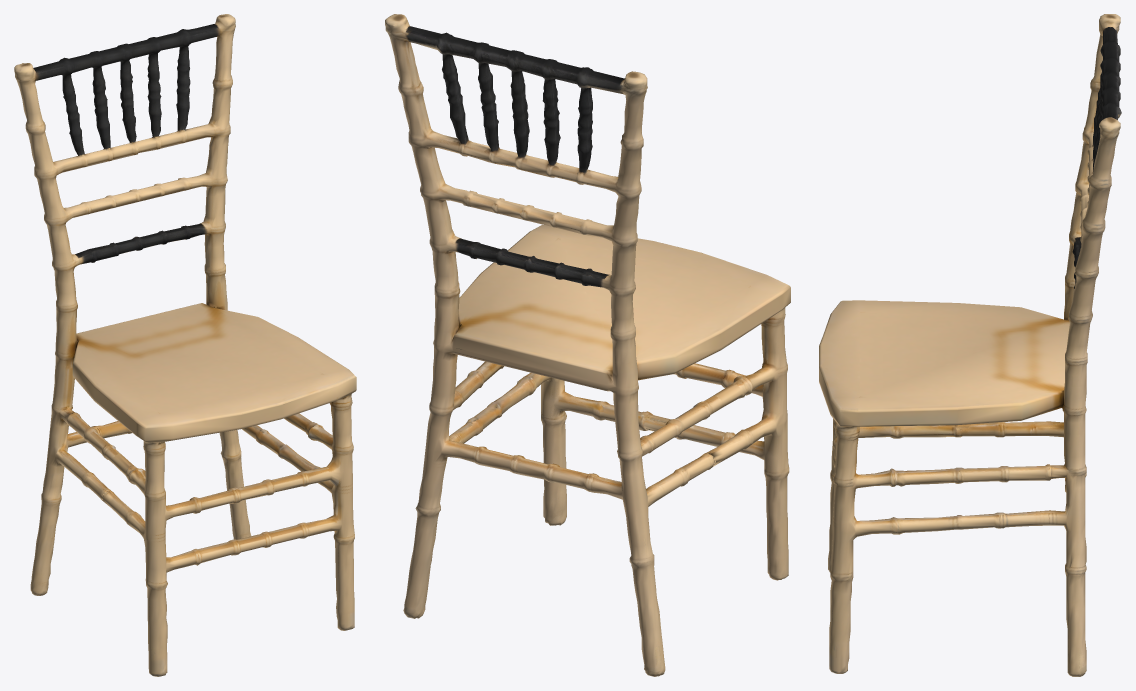
Rendered from Golden_Chiavari_Chair_0320031033_texture.glb.
3 renders of one model, left to right at view 1: azimuth 30°, elevation 25°; view 2: azimuth 150°, elevation 25°; view 3: azimuth 270°, elevation 25°, orthographic. The views are drawn at different scales.
Parts seen in each view (by area): view 1: Mesh_0; view 2: Mesh_0; view 3: Mesh_0.
Part boxes in pixels (x1,y1,x2,y2): Mesh_0: (14, 14, 356, 676); Mesh_0: (385, 14, 790, 676); Mesh_0: (819, 14, 1121, 676).
Size of the model in its own units: 0.4037 by 0.9144 by 0.4506.
Materials: 1 (1 with a texture image).
